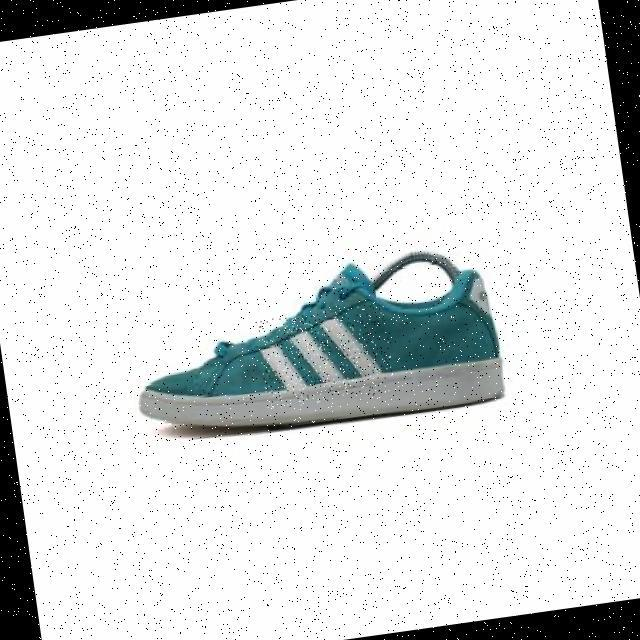Adidas: (256, 303, 396, 410)
